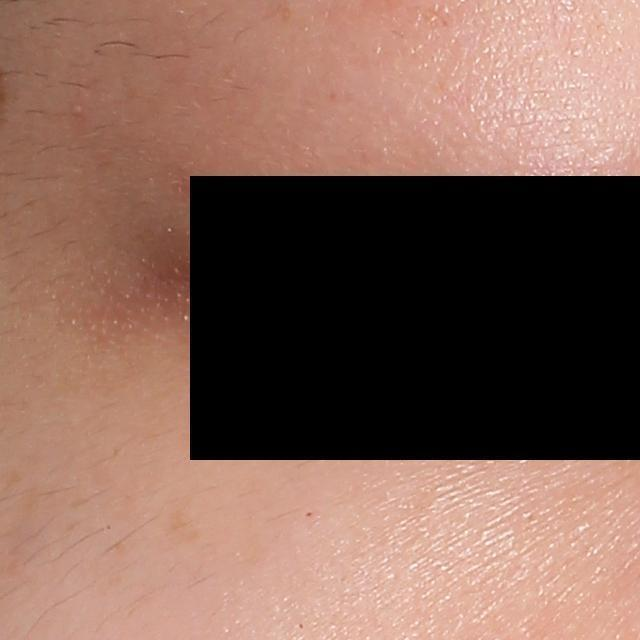melasma: (162, 502, 212, 547)
